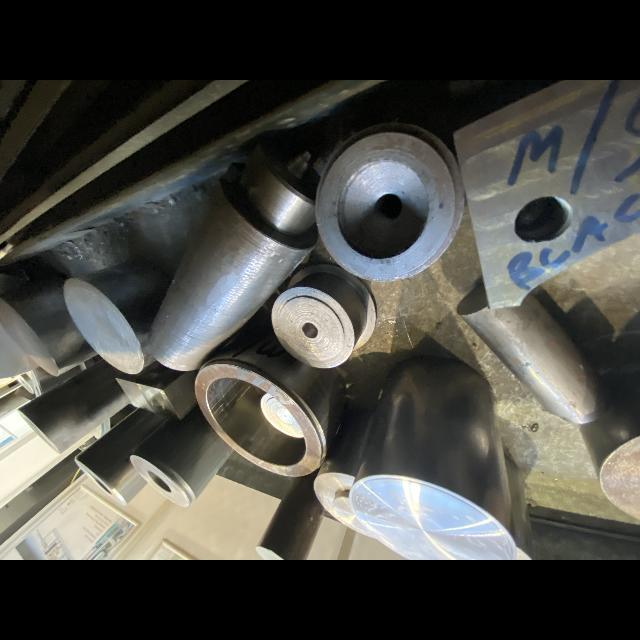Aluminium: (0, 322, 38, 378)
Ferrous Metal: (452, 80, 640, 309), (148, 142, 319, 371), (349, 359, 519, 560), (195, 318, 348, 476), (315, 124, 464, 281), (454, 285, 612, 424), (63, 260, 170, 375), (16, 358, 131, 454), (271, 265, 376, 369), (0, 273, 99, 376), (130, 410, 232, 507), (74, 409, 170, 505), (313, 408, 376, 538), (578, 399, 640, 520), (255, 470, 324, 559), (115, 361, 199, 420), (260, 393, 303, 438)
Stainless Steel: (30, 358, 95, 398)
